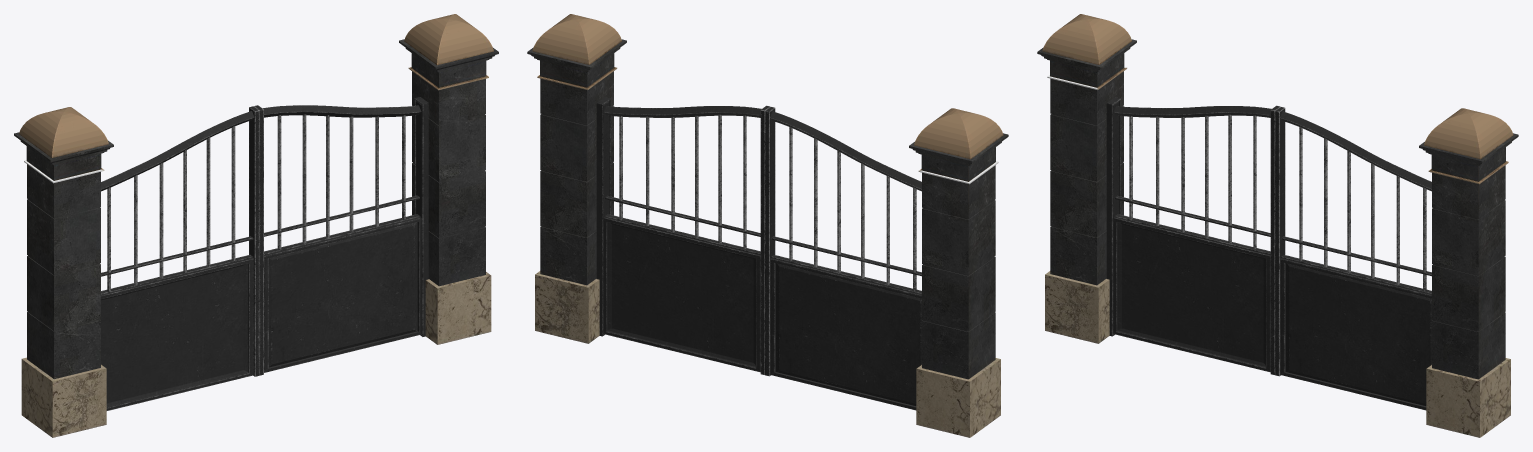
The model's file is v_gate3.glb.
The picture shows the model from 3 angles, left to right: view 1: azimuth 30°, elevation 25°; view 2: azimuth 150°, elevation 25°; view 3: azimuth 330°, elevation 25°; orthographic projection.
Size of the model in its own units: 2 by 1.32 by 0.2913.
5 materials, 5 textured.
